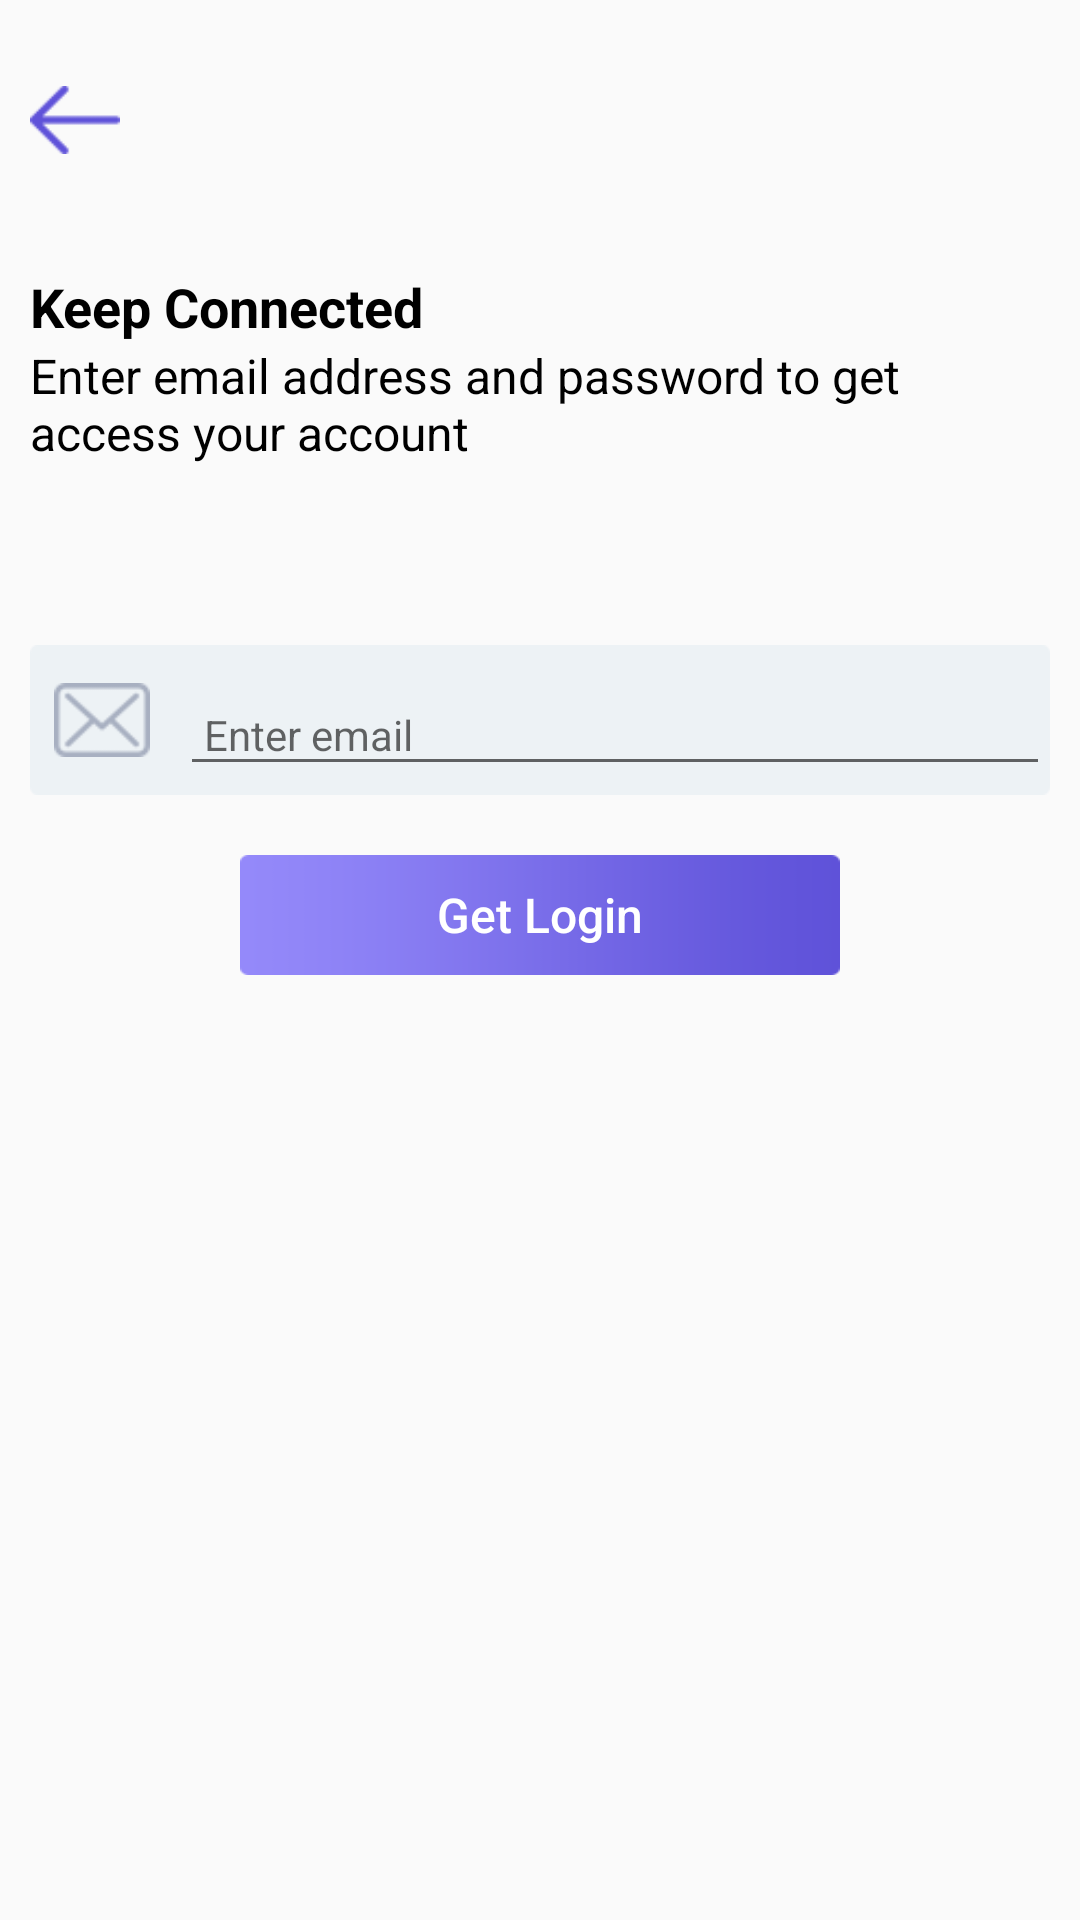

Screen size 1080x1920. Icon name, then its center in pixels as (x,y):
arrow left: (75,120)
email: (102,720)
